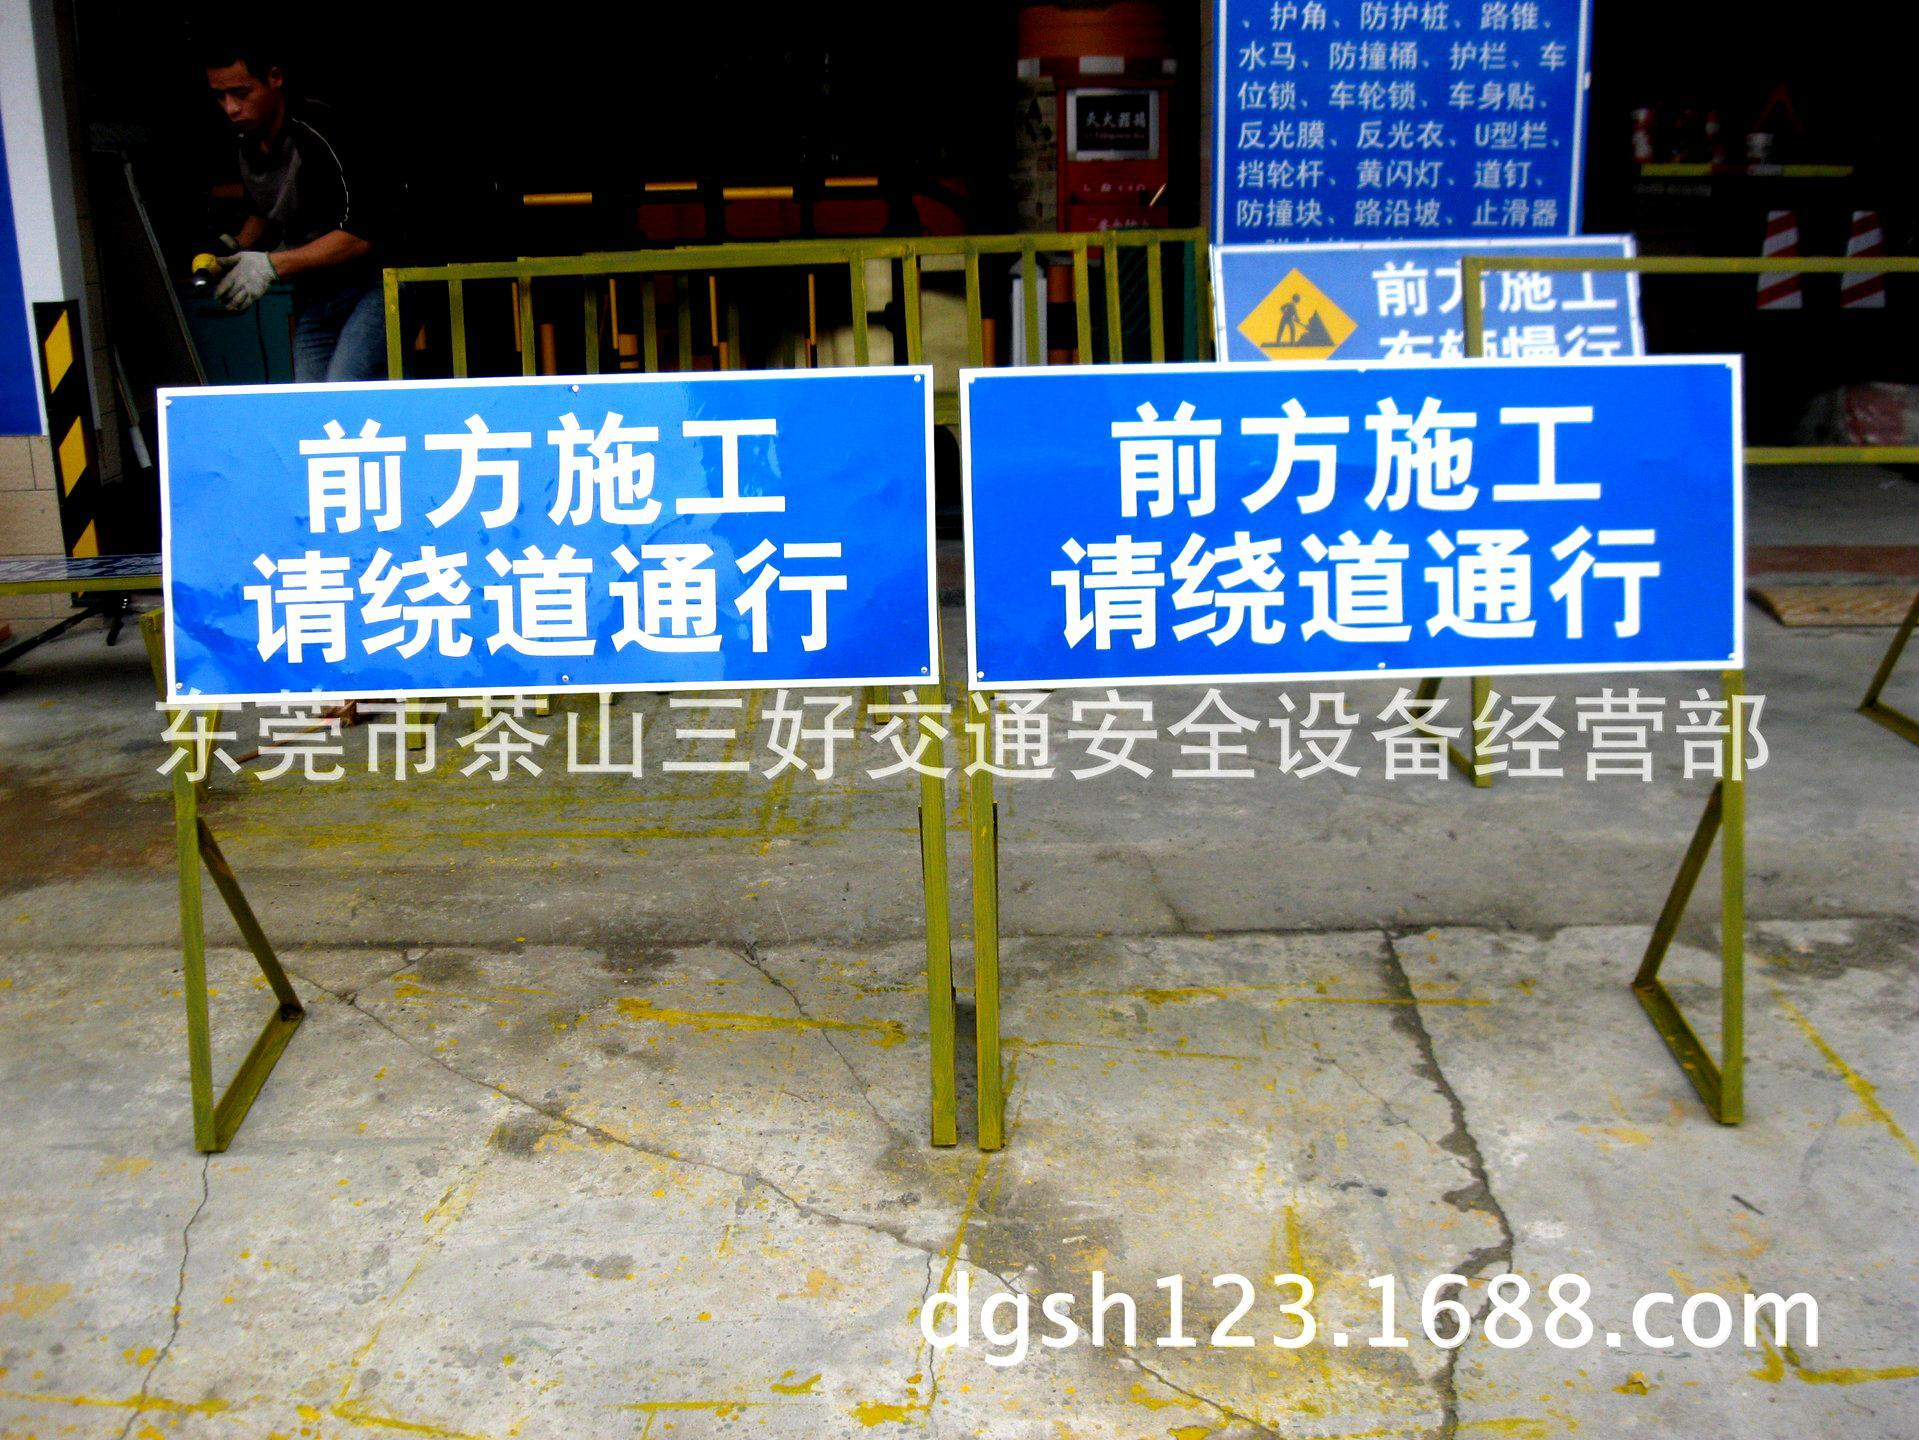sign: (966, 378, 1747, 687), (151, 392, 932, 681), (1226, 244, 1642, 357)
